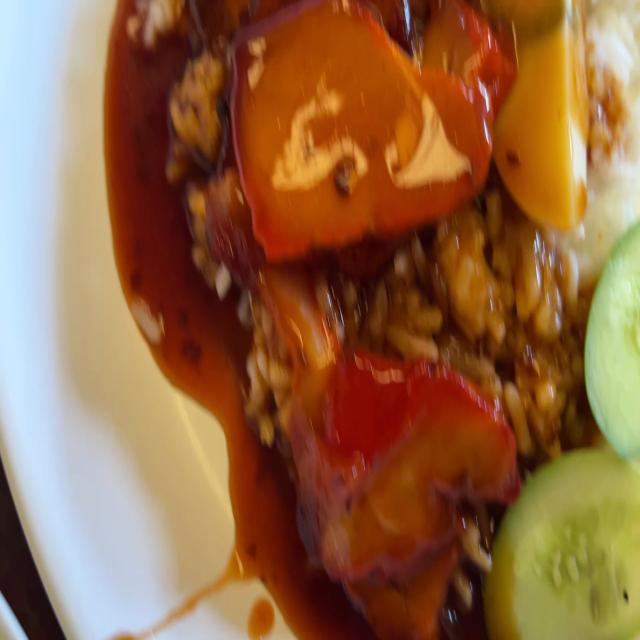boiled_egg: (485, 0, 590, 228)
cucumber: (485, 449, 640, 640), (583, 224, 640, 451)
red_pork: (206, 15, 492, 226), (280, 347, 487, 614)
red_pork_and_crispy_pork: (126, 0, 640, 640)
